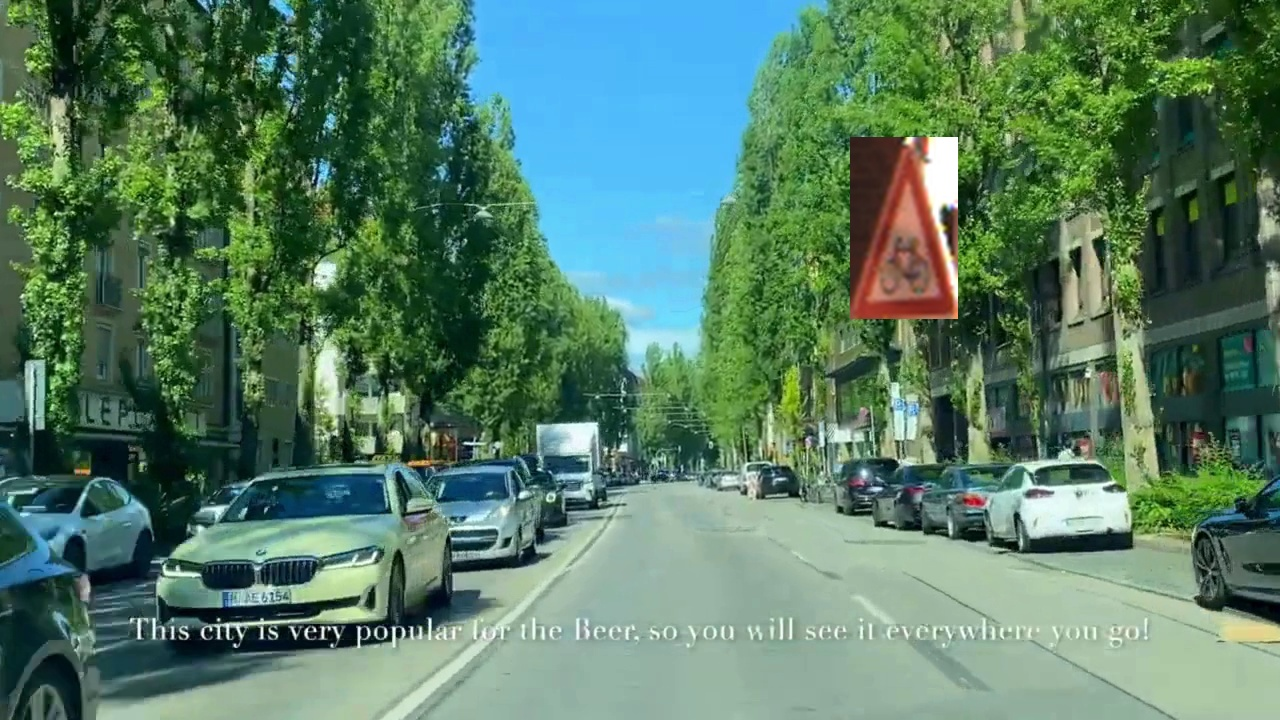Bicycles: (850, 137, 958, 319)
